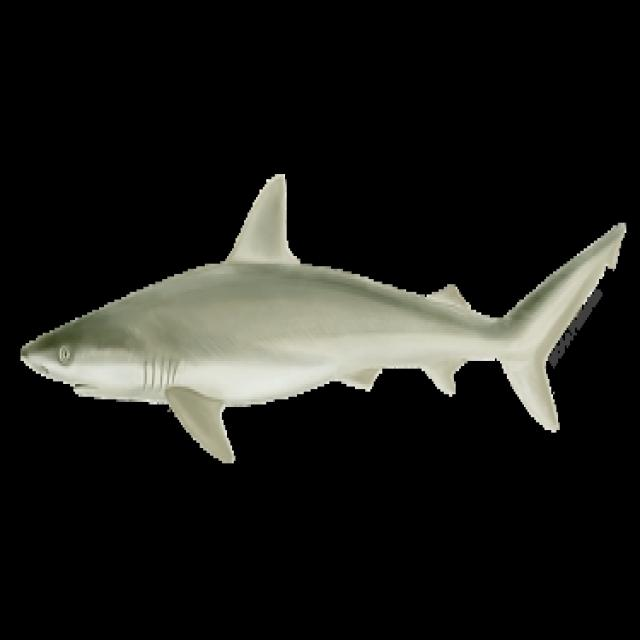gaviota: (20, 174, 625, 461)
